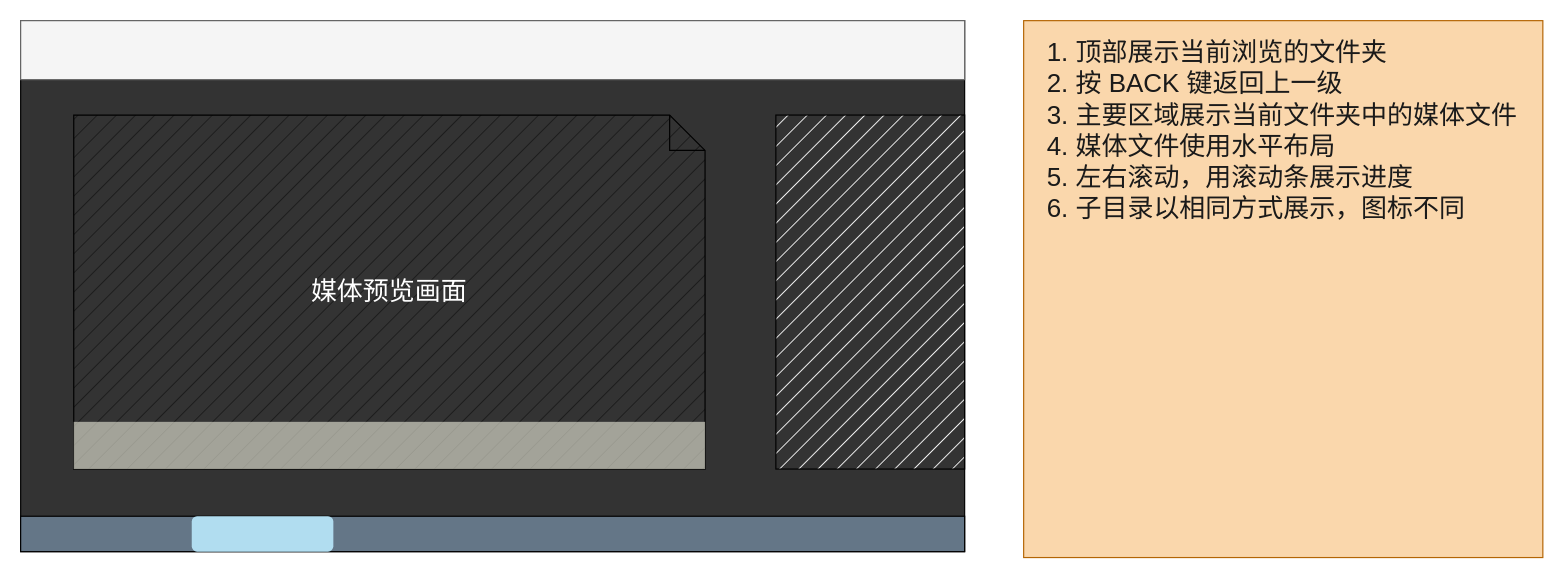
Image size: 1563x578. Some labels were removed from this diagram. The centre of each missing label's shape, as x and y in pixels:
媒体文件名: (x=388, y=444)
当前浏览的文件夹: (x=492, y=49)
